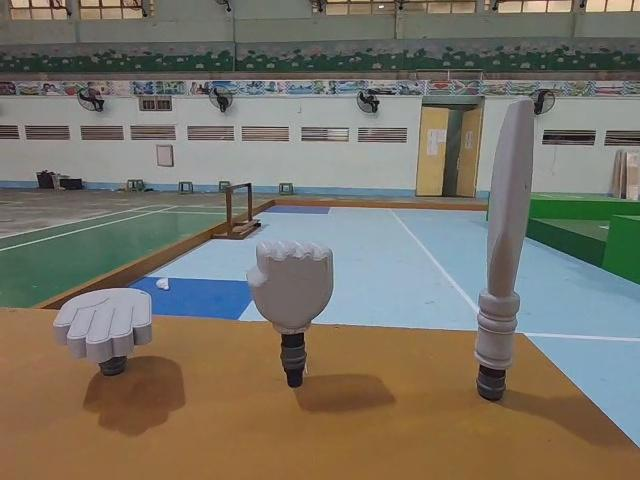Fist: (241, 239, 350, 389)
Hand: (56, 281, 156, 379)
Sph: (467, 89, 533, 405)
